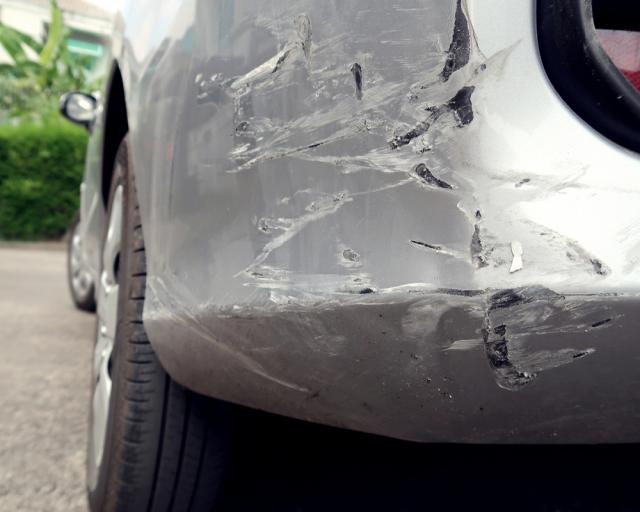scratch: (150, 0, 640, 435)
